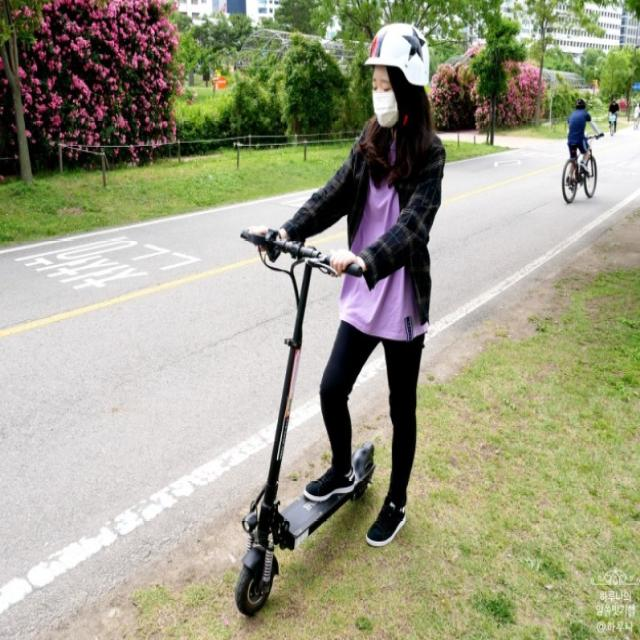helmet: (182, 17, 468, 609)
